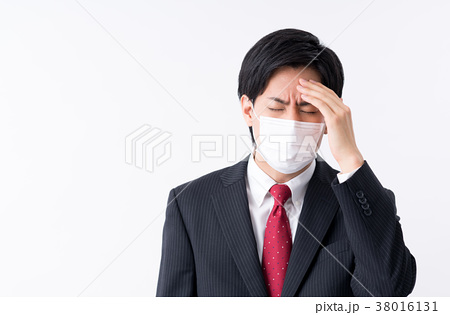mask: (257, 121, 325, 174)
